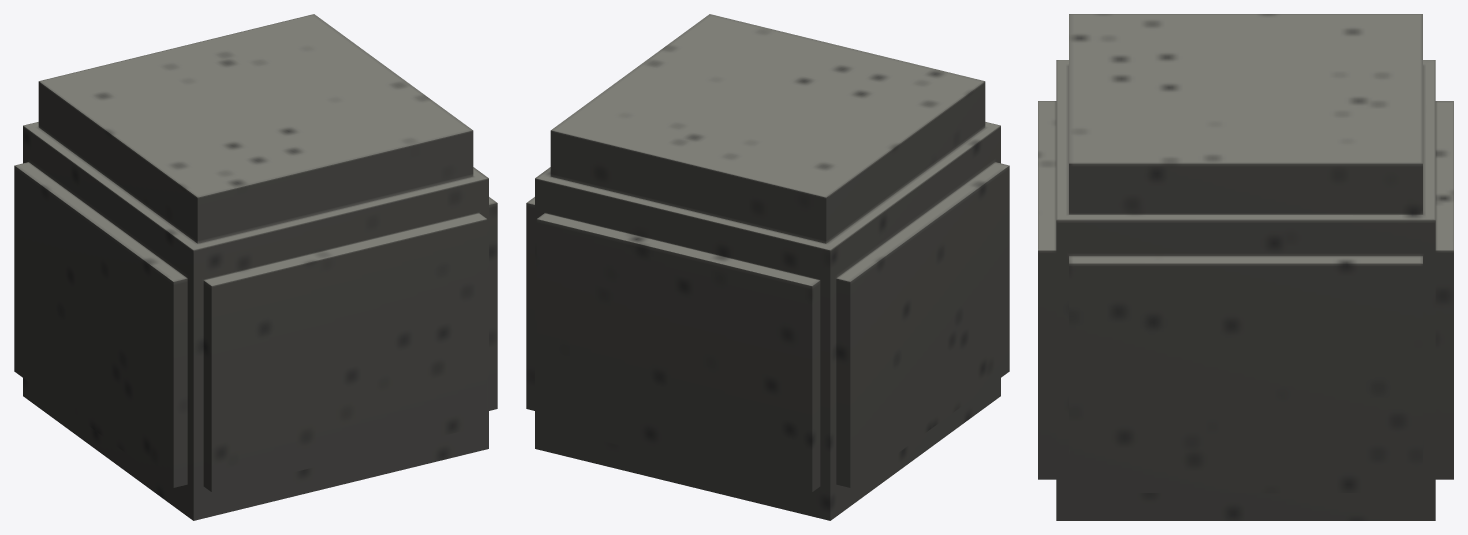
File: Batu 5.fbx
3 renders of one model, left to right at view 1: azimuth 30°, elevation 25°; view 2: azimuth 150°, elevation 25°; view 3: azimuth 270°, elevation 25°, orthographic. The views are drawn at different scales.
Parts seen in each view (by area): view 1: Batu 5; view 2: Batu 5; view 3: Batu 5.
Part boxes in pixels (left/top/right/bottom): Batu 5: left=14, top=14, right=497, bottom=520; Batu 5: left=526, top=14, right=1009, bottom=520; Batu 5: left=1038, top=14, right=1453, bottom=520.
Size of the model in its own units: 80.37 by 75.06 by 80.37.
Materials: 1 (1 with a texture image).
